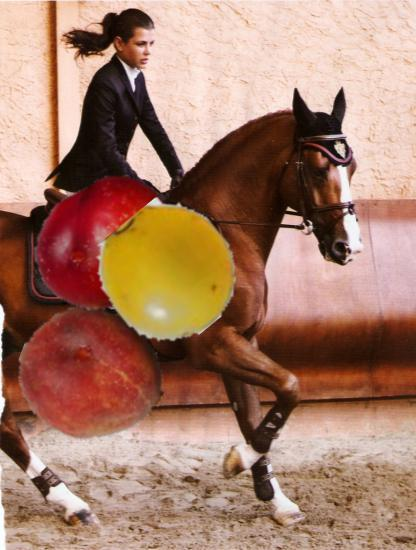Grape: (101, 206, 236, 341)
Nectarine: (34, 170, 180, 316)
Peach: (18, 300, 167, 449)
